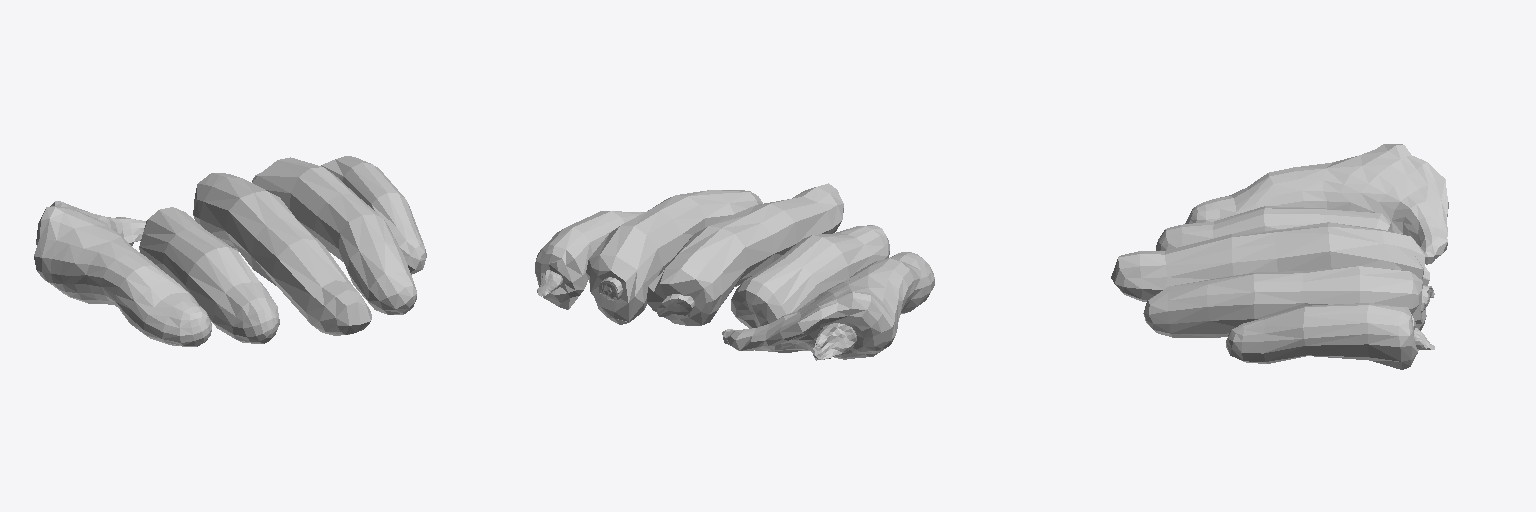
File: uploads_files_2291575_Severed_Fingers_OBJ.obj
3 views of the same model, side by side, from view 1: azimuth 30°, elevation 25°; view 2: azimuth 150°, elevation 25°; view 3: azimuth 270°, elevation 25° (orthographic).
Visible parts, largest first — view 1: Fingers_low; view 2: Fingers_low, Bones_low; view 3: Fingers_low, Bones_low.
Part boxes in pixels (x1,y1,x2,y2): Fingers_low: (34,156,426,346); Fingers_low: (535,183,934,359); Bones_low: (537,270,856,360); Fingers_low: (1111,144,1448,369); Bones_low: (1414,267,1434,349).
Bounding box in the file's own units: 12.31 × 2.79 × 10.41.